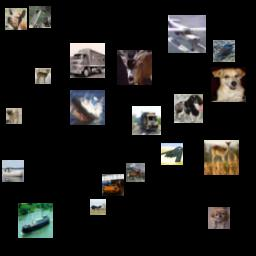airplane: (168, 15, 206, 53), (161, 143, 183, 165), (90, 199, 106, 215)
automobile: (102, 174, 124, 196)
bird: (213, 40, 235, 62)
deer: (117, 50, 152, 85), (204, 140, 239, 175), (5, 8, 27, 30), (126, 163, 145, 182), (35, 68, 51, 84)
dog: (211, 67, 246, 102), (174, 94, 203, 123), (208, 207, 230, 229), (6, 108, 22, 124)
ship: (18, 203, 53, 238), (70, 90, 105, 125), (2, 160, 24, 182)
truck: (70, 43, 105, 78), (132, 106, 161, 135), (29, 6, 51, 28)
